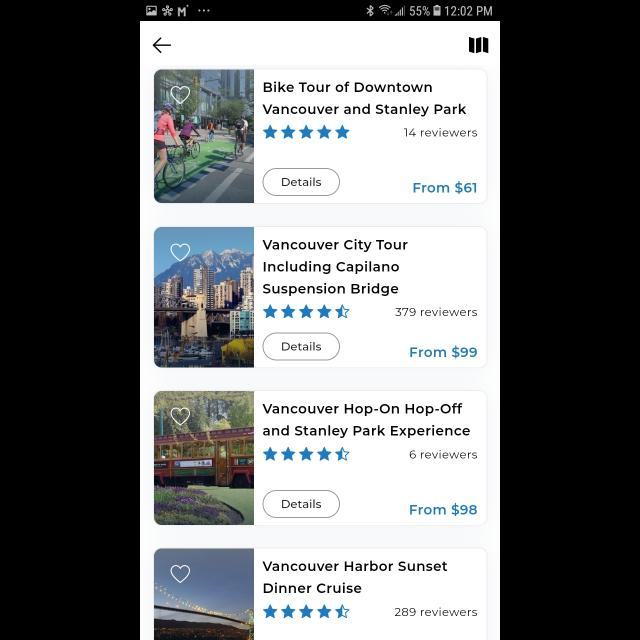icon: (262, 604, 350, 618), (262, 447, 350, 461), (262, 305, 350, 319), (262, 125, 350, 139), (170, 564, 190, 584), (170, 242, 190, 262), (171, 408, 191, 426), (468, 37, 488, 54), (172, 86, 190, 104), (153, 38, 171, 54)
image: (154, 228, 254, 368), (154, 391, 254, 525), (154, 70, 254, 204), (154, 548, 254, 640)
text: (262, 239, 408, 297), (262, 403, 470, 439), (262, 82, 466, 118), (262, 560, 448, 594), (410, 503, 478, 517), (410, 346, 478, 358), (414, 182, 476, 194), (404, 128, 478, 138), (410, 450, 478, 460), (395, 608, 477, 616), (396, 308, 476, 316)
textbutton: (263, 332, 341, 361), (263, 490, 341, 518), (263, 168, 341, 196)
uppertaskbar: (140, 1, 500, 22)
